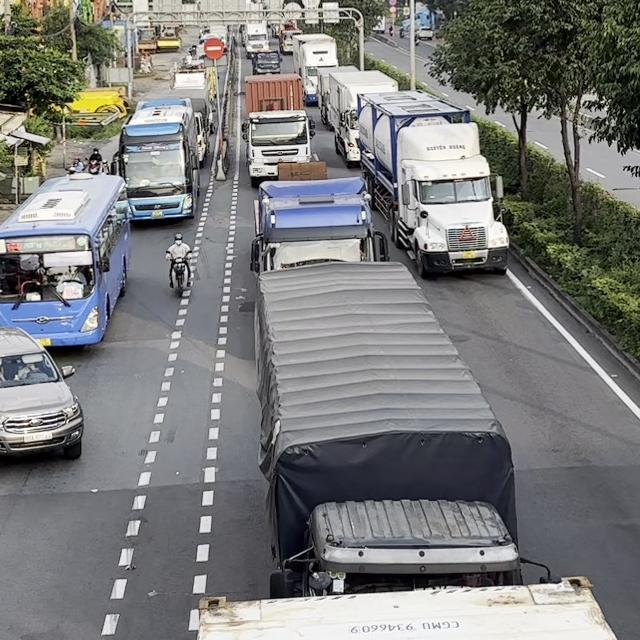bus: (0, 172, 132, 348), (113, 98, 205, 223)
car: (0, 325, 84, 460)
motorcycle: (164, 251, 193, 297)
truck: (253, 260, 522, 596), (355, 89, 509, 278), (249, 175, 389, 277), (242, 74, 318, 187), (326, 69, 399, 168), (292, 32, 339, 106), (251, 50, 282, 74)
